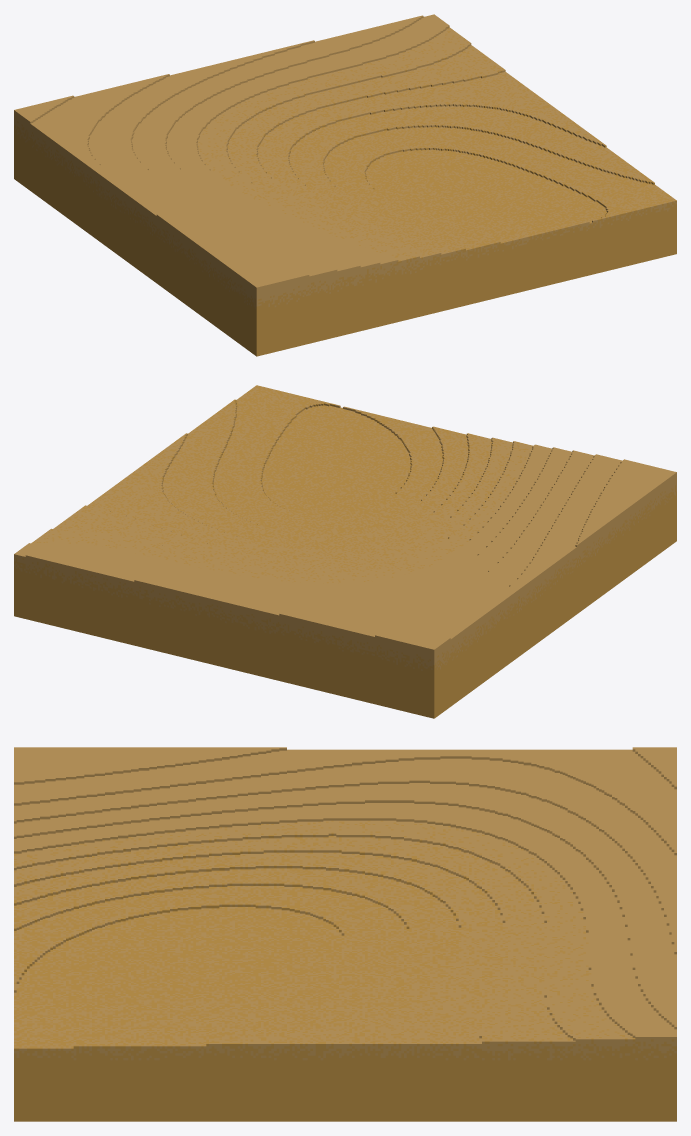
Rendered from Marte-10.obj.
3 renders of one model, top to bottom at view 1: azimuth 30°, elevation 25°; view 2: azimuth 150°, elevation 25°; view 3: azimuth 270°, elevation 25°, orthographic. The views are drawn at different scales.
Size of the model in its own units: 25.5 by 4 by 25.5.
1 material, 1 textured.
